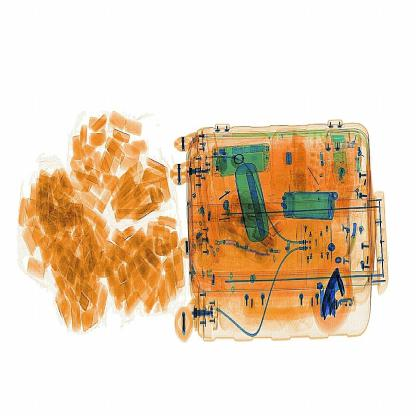wrench: (341, 220, 360, 257)
